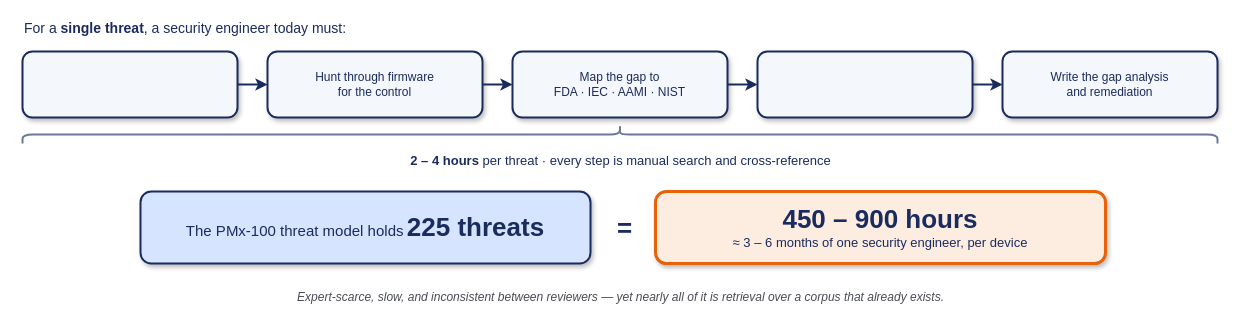
Image size: 1241x324. Some labels were removed from this diagram. Each missing label, with the centre of its shape:
"Read the threat in the threat model" goes at [130,85].
"Score CVSS by hand" goes at [865,85].
